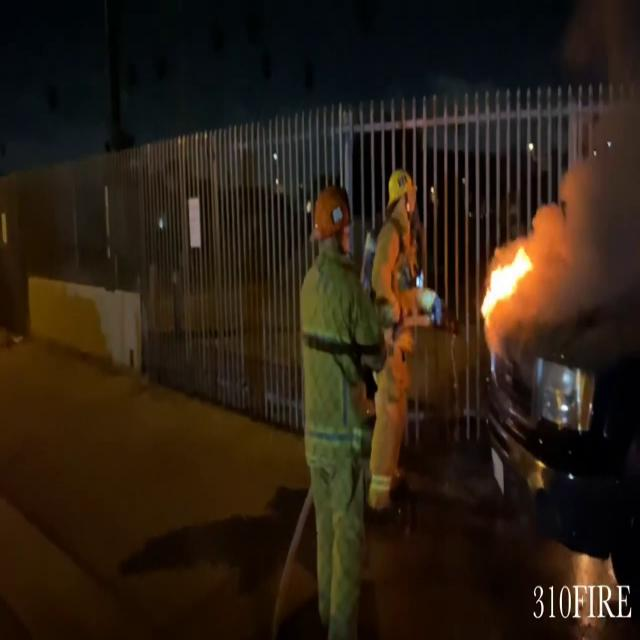Fire: (479, 232, 535, 328)
Smoke: (543, 1, 640, 323)
